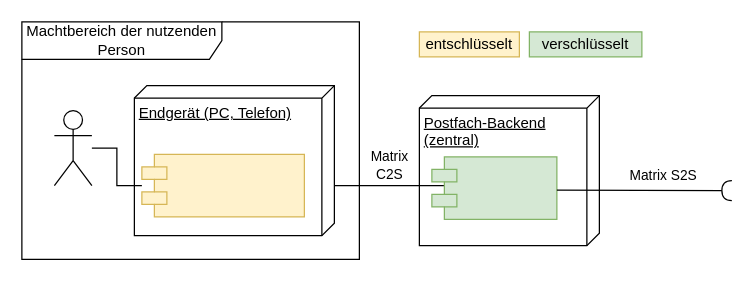
Some shapes in this 755 by 281 pixel diagram are drawn without their labels. The shapes that lost their labels are listed below. From the top down, each one's centre as x and y in pixels, then its label:
At point (72, 147): "Nutzende Person".
At point (222, 185): "Postfach-Zugang (Matrix-Client)".
At point (494, 187): "Postfach (Matrix-Homeserver)".
